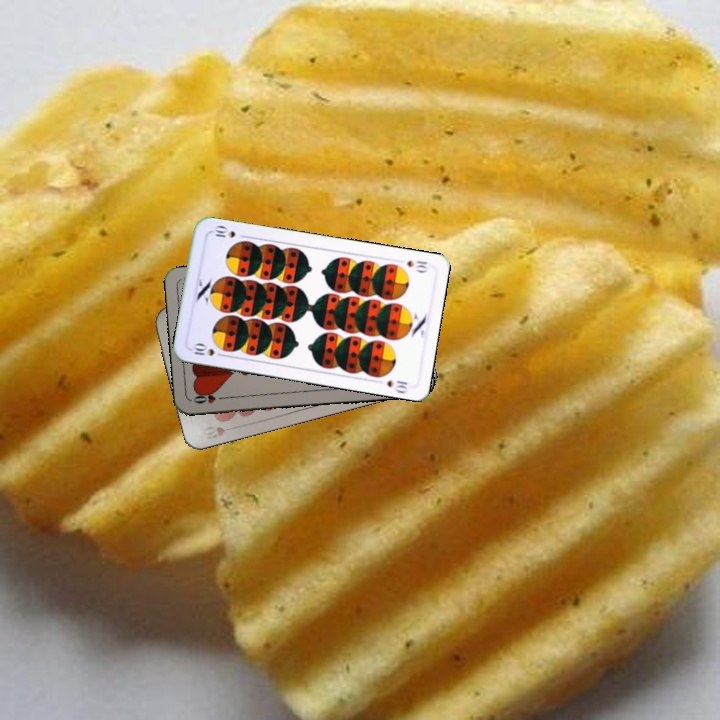H10: (198, 422, 227, 439)
HO: (189, 389, 229, 406)
S10: (187, 339, 228, 359), (403, 256, 430, 275)
